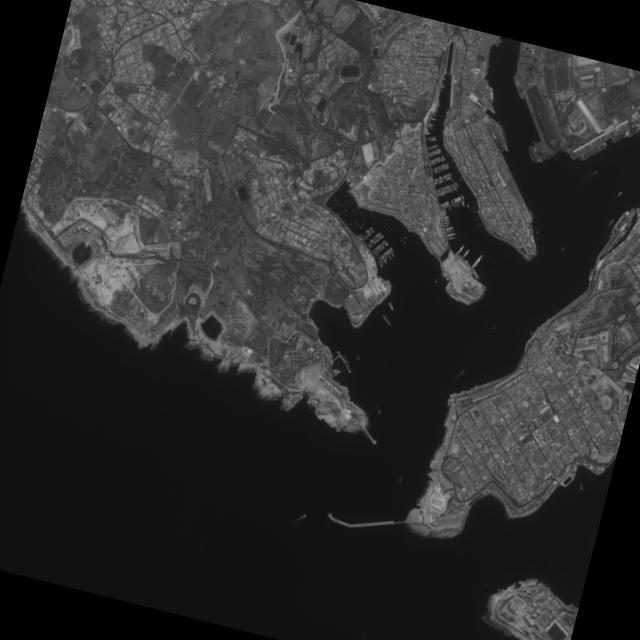ship: (532, 97, 559, 150), (606, 207, 630, 237), (576, 139, 608, 161), (511, 73, 524, 98), (609, 127, 629, 143), (534, 138, 546, 160), (469, 252, 483, 267), (526, 144, 537, 162), (379, 312, 391, 326), (626, 127, 639, 137), (586, 266, 593, 282), (385, 299, 394, 310), (460, 246, 469, 257), (455, 242, 464, 253), (492, 36, 502, 45), (296, 511, 306, 520), (605, 216, 614, 225), (488, 86, 493, 101), (443, 223, 453, 230), (614, 188, 622, 196), (444, 227, 454, 233), (445, 230, 455, 236), (559, 243, 566, 251), (527, 208, 533, 217), (445, 234, 455, 239), (442, 218, 449, 224), (429, 115, 435, 121), (441, 213, 448, 218), (375, 408, 380, 414), (592, 168, 598, 173), (426, 124, 432, 129), (441, 216, 448, 220), (423, 130, 429, 134), (578, 483, 582, 489), (426, 122, 432, 126), (428, 121, 434, 125), (431, 112, 436, 115)
storage-tank: (285, 348, 292, 355), (295, 348, 301, 355), (290, 349, 296, 355), (283, 357, 289, 363), (307, 345, 313, 351), (284, 363, 289, 368)
